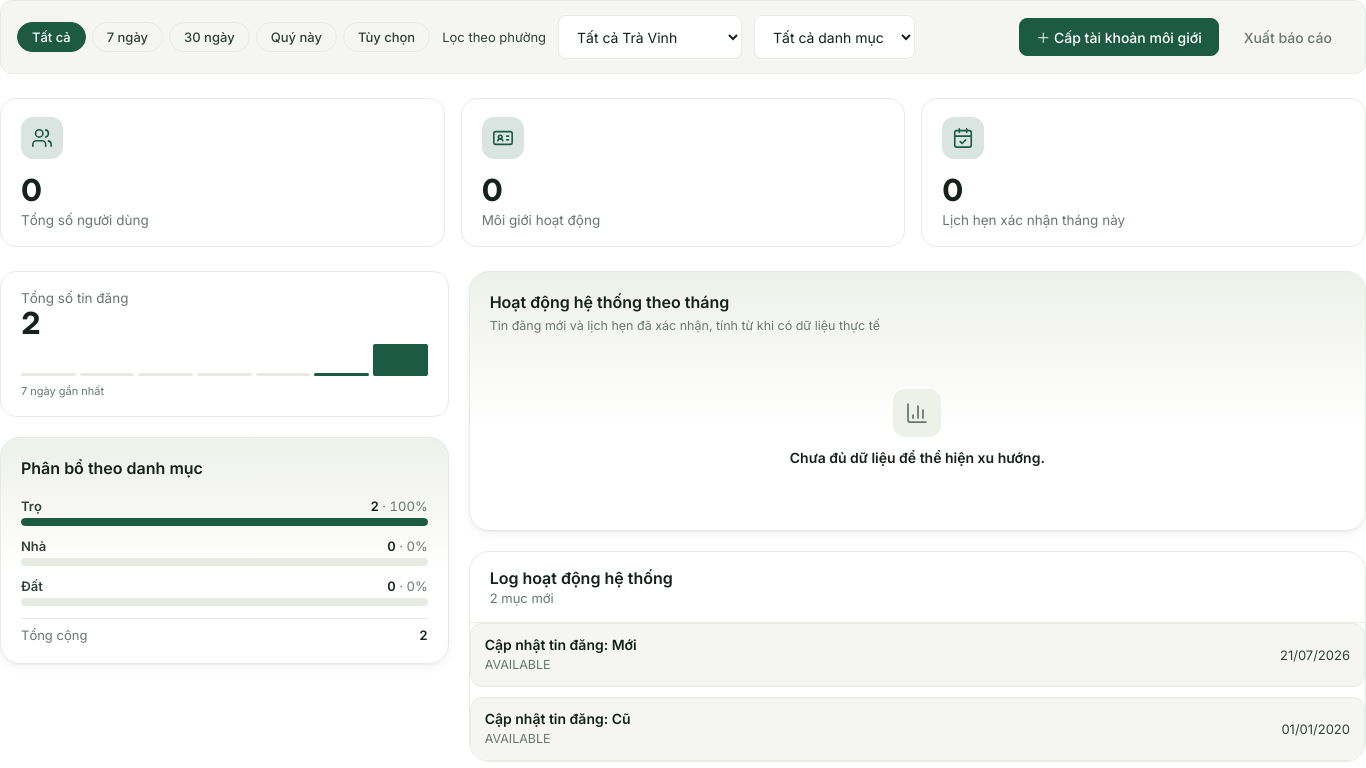
Test: Tổng số tin đăng KPI value narrows when a date preset excludes older listings
This screenshot has width=1366, height=768.
Expected: the text "2" below "Tổng số tin đăng" is shown, [21,304,40,342]
Click the button "7 ngày". click: [127, 37]
box: [92,22,163,52]
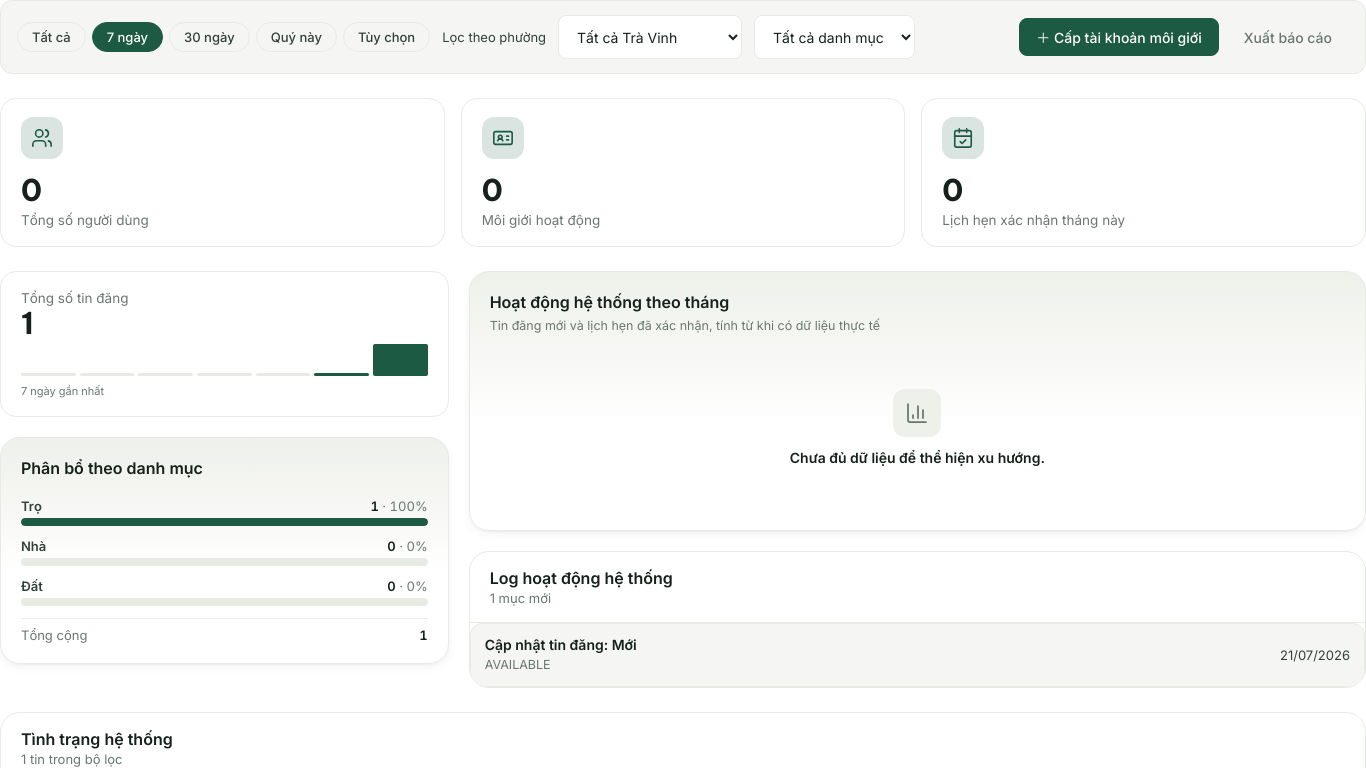
Result: the text "1" below "Tổng số tin đăng" is shown at [21,304,33,342]
